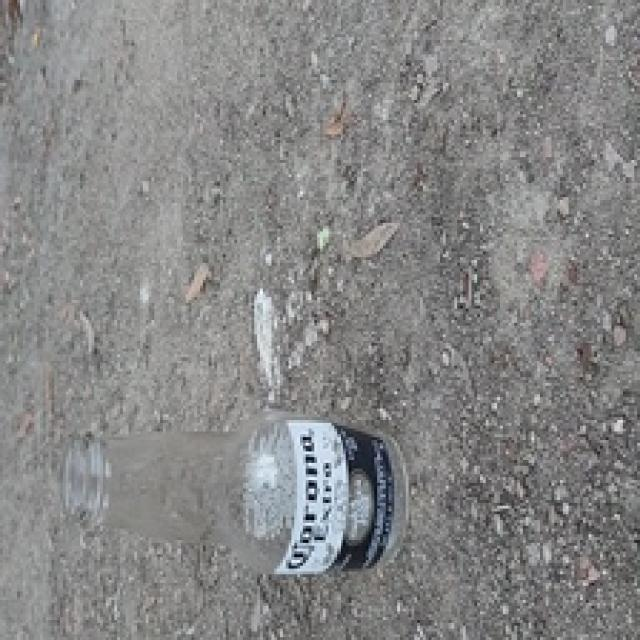Glass: (56, 411, 408, 578)
